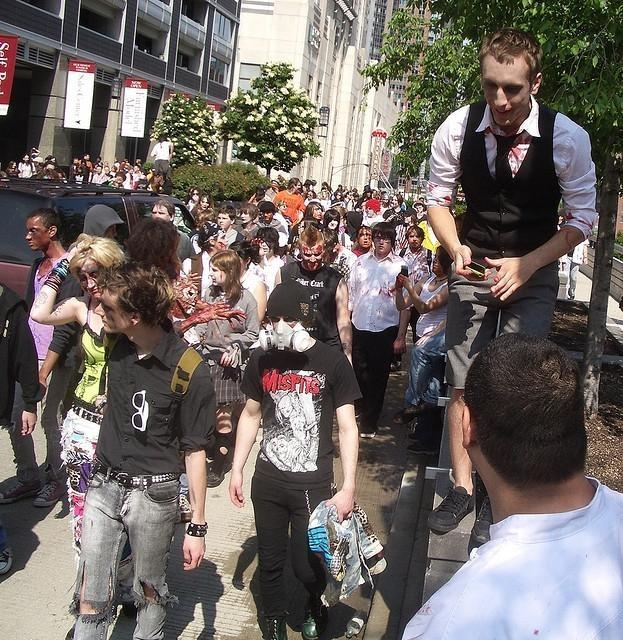car: (0, 178, 198, 306)
